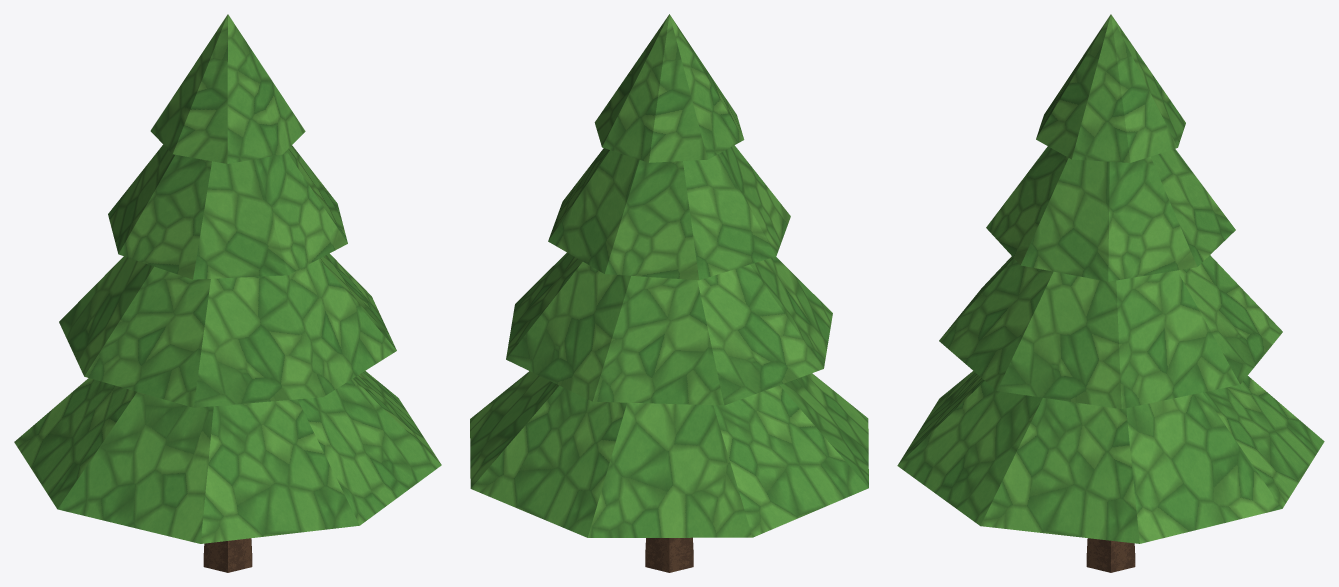
File: Tree_Pine.fbx
3 renders of one model, left to right at view 1: azimuth 30°, elevation 25°; view 2: azimuth 150°, elevation 25°; view 3: azimuth 270°, elevation 25°, orthographic.
Visible parts, largest first — view 1: Tree_Pine; view 2: Tree_Pine; view 3: Tree_Pine.
Boxes of the visible parts, box(x1,y1,x2,y2) form: Tree_Pine: box(14, 14, 441, 572); Tree_Pine: box(470, 14, 868, 572); Tree_Pine: box(897, 14, 1324, 572).
Bounding box in the file's own units: 1.98 × 2.8 × 1.98.
2 materials, 2 textured.
